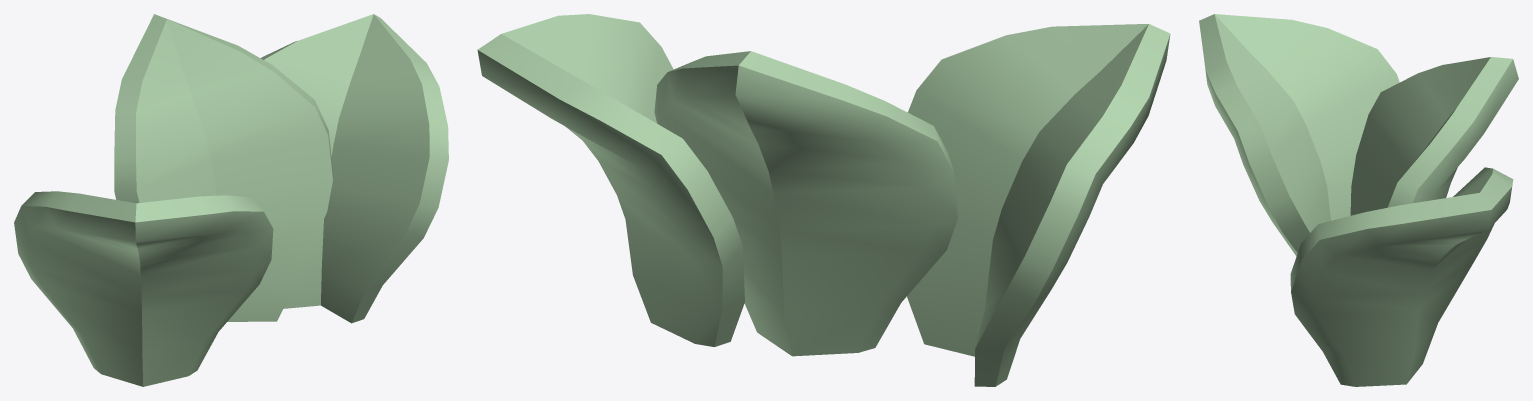
File: foliage_B.glb
The picture shows the model from 3 angles, left to right: view 1: azimuth 30°, elevation 25°; view 2: azimuth 150°, elevation 25°; view 3: azimuth 270°, elevation 25°; orthographic projection. The views are drawn at different scales.
Visible parts, largest first — view 1: foliage_B; view 2: foliage_B; view 3: foliage_B.
Boxes of the visible parts, bbox=[...] form: foliage_B: bbox=[14, 14, 448, 386]; foliage_B: bbox=[477, 14, 1170, 386]; foliage_B: bbox=[1199, 14, 1518, 386].
Size of the model in its own units: 0.7017 by 0.4319 by 0.4645.
